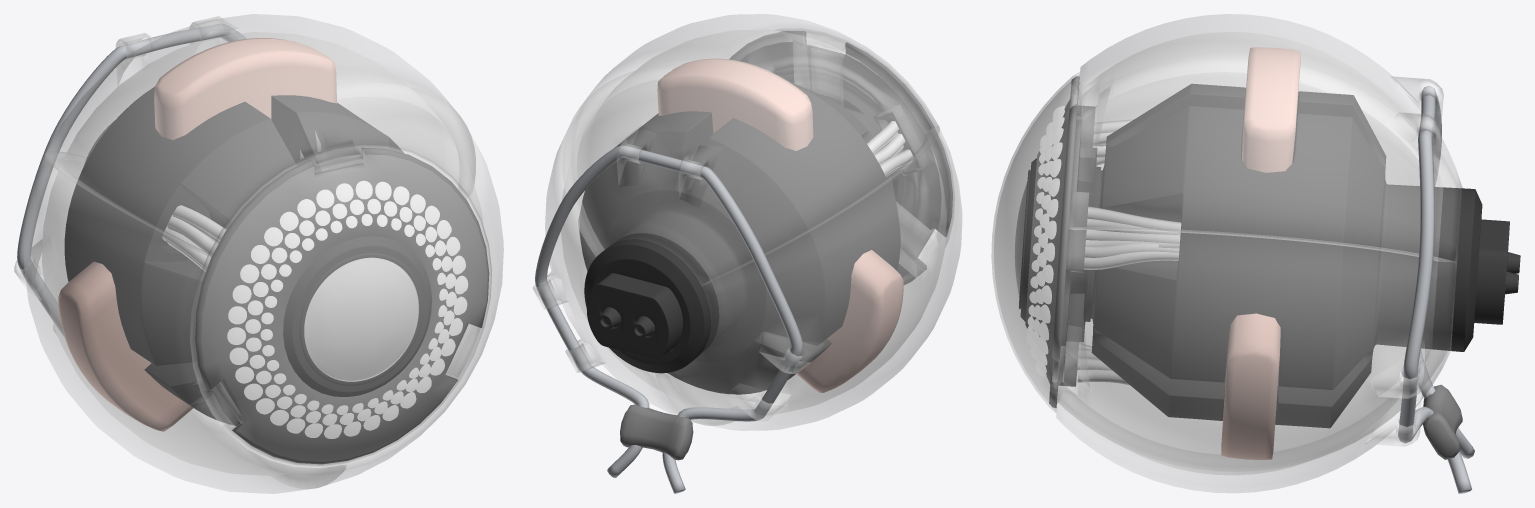
File: robot-transformed.glb
3 views of the same model, side by side, from view 1: azimuth 30°, elevation 25°; view 2: azimuth 150°, elevation 25°; view 3: azimuth 270°, elevation 25° (orthographic). The views are drawn at different scales.
Visible parts, largest first — view 1: Eyeball Segment Low Poly, Armature.002, Lens Low Poly, Circle Low Poly, Light Low Poly, BezierCurve.006; view 2: Eyeball Segment Low Poly, Armature.002, Circle Low Poly, BezierCurve.006, Lens Low Poly; view 3: Eyeball Segment Low Poly, Armature.002, Lens Low Poly, Circle Low Poly, BezierCurve.006, Light Low Poly.
Part boxes in pixels (x1,y1,x2,y2): Eyeball Segment Low Poly: (14, 14, 503, 493); Armature.002: (17, 24, 431, 431); Lens Low Poly: (190, 143, 491, 467); Circle Low Poly: (194, 147, 489, 464); Light Low Poly: (227, 180, 468, 438); BezierCurve.006: (162, 205, 225, 271); Eyeball Segment Low Poly: (533, 14, 962, 430); Armature.002: (535, 58, 903, 493); Circle Low Poly: (729, 31, 952, 284); BezierCurve.006: (867, 121, 913, 176); Lens Low Poly: (775, 28, 954, 246); Eyeball Segment Low Poly: (1052, 14, 1462, 492); Armature.002: (1014, 47, 1520, 493); Lens Low Poly: (991, 72, 1082, 412); Circle Low Poly: (1025, 76, 1095, 407); BezierCurve.006: (1077, 119, 1181, 385); Light Low Poly: (1026, 106, 1065, 376).
Size of the model in its own units: 2 by 2 by 2.2.
5 materials, 3 textured.
